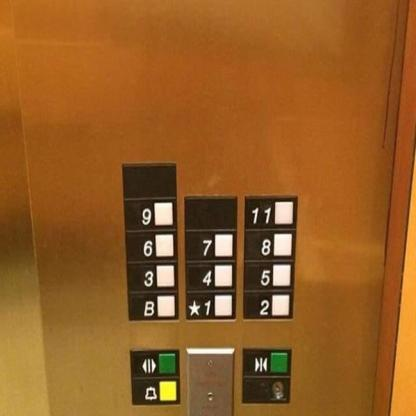11: (244, 194, 298, 230)
2: (241, 288, 295, 322)
3: (126, 258, 178, 292)
4: (184, 258, 237, 294)
5: (242, 256, 296, 290)
6: (123, 226, 179, 262)
7: (182, 226, 238, 262)
8: (243, 226, 297, 262)
9: (122, 197, 178, 229)
B: (127, 290, 179, 322)
alarm: (129, 374, 182, 408)
bt_keyhole: (240, 376, 292, 405)
close: (240, 345, 292, 376)
empty: (119, 160, 177, 198), (181, 193, 238, 229)
open: (127, 346, 181, 377)
s1: (184, 288, 238, 322)
